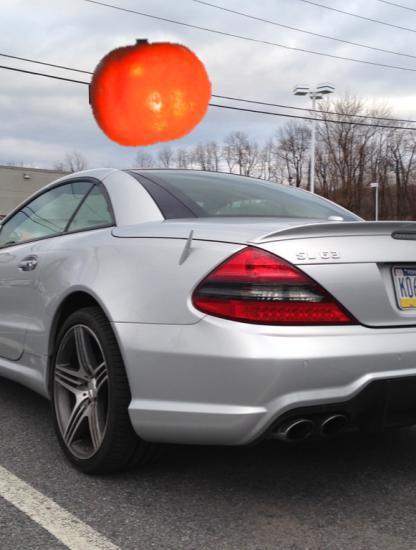Clementine: (89, 31, 212, 154)
